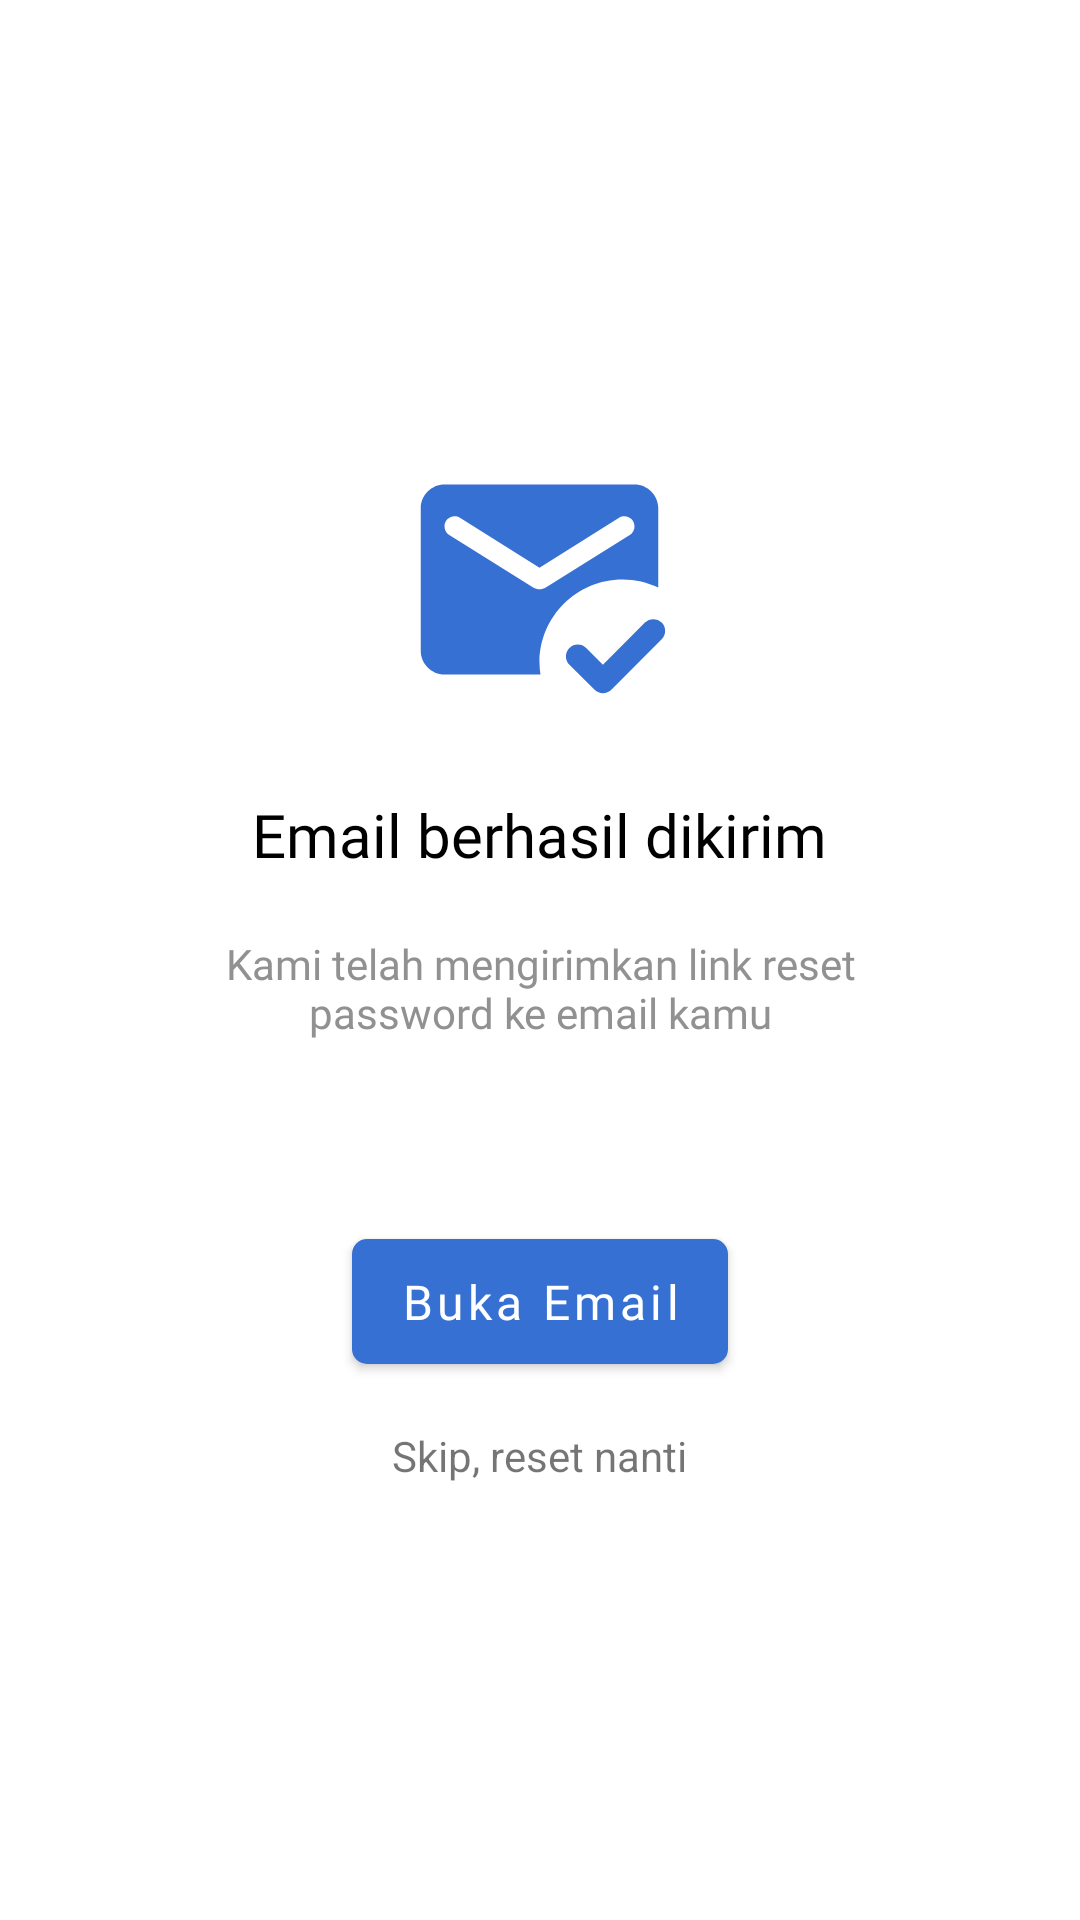

Named icons in this screenshot (1080 x 1920) and their centers, (x,y):
mark email: (542,589)
